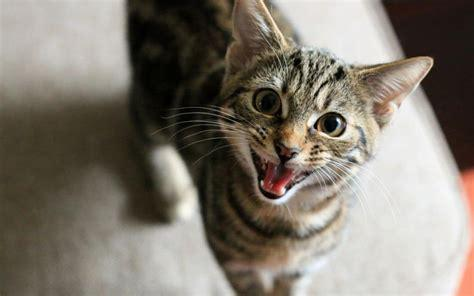cat: (123, 1, 432, 296)
